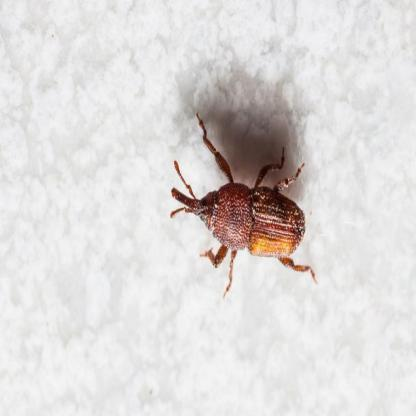rice-bug: (170, 149, 312, 278)
